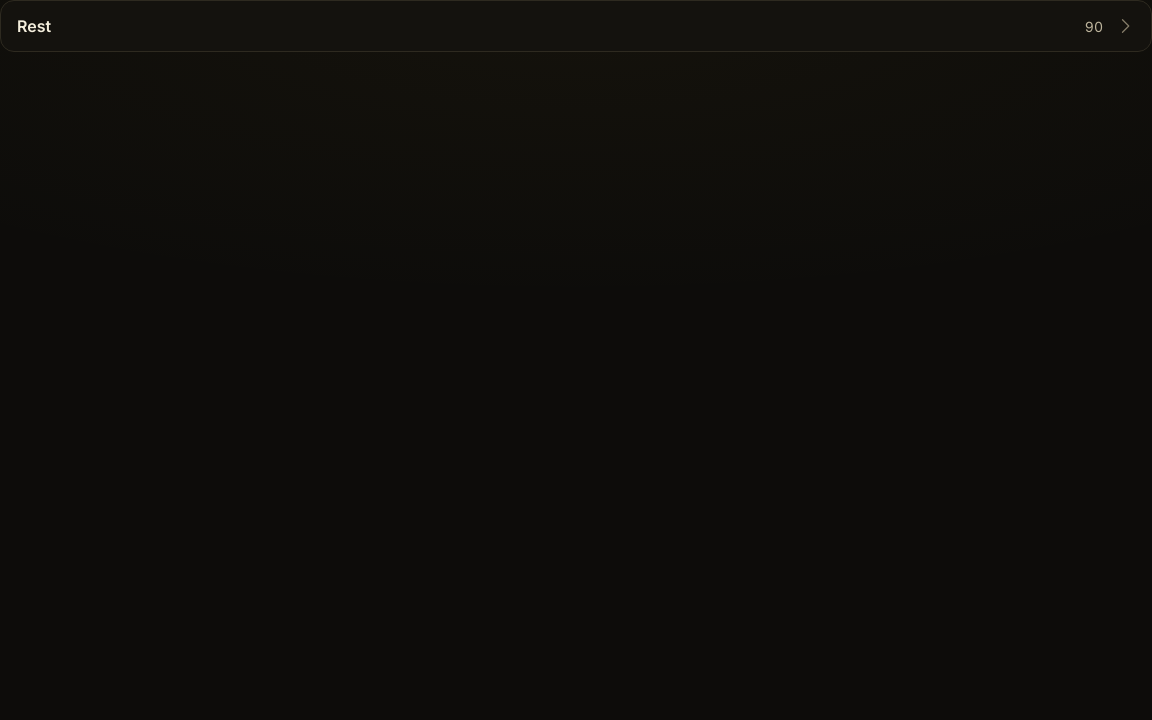
NumberRow: wheel in Premium, stepper in Classic › the wheel switch alone decides it (other switches off, wheels on)
Click the button "Rest 90" at (34, 26), box [0, 0, 1151, 52]
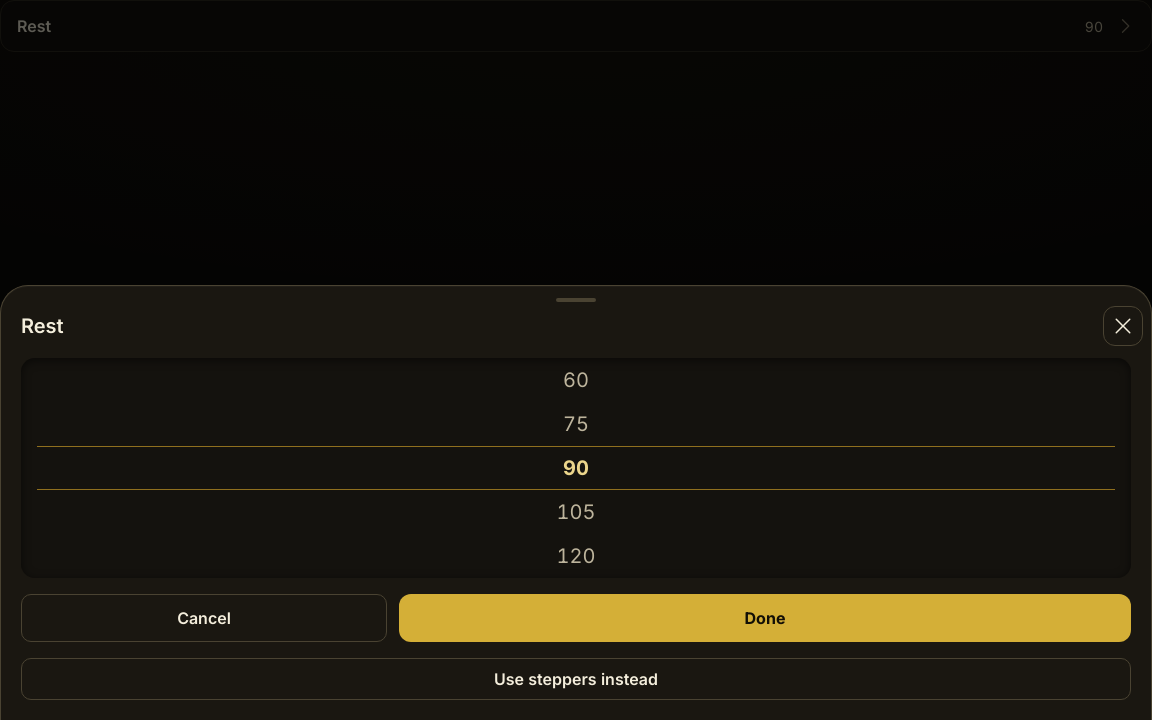
Expected: the number field named "Rest" is shown, [556, 368, 595, 568]
